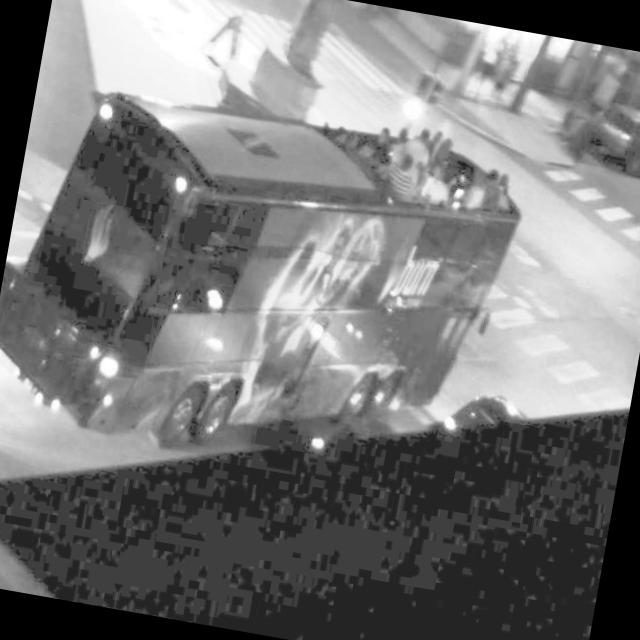Bus: (0, 12, 550, 525)
